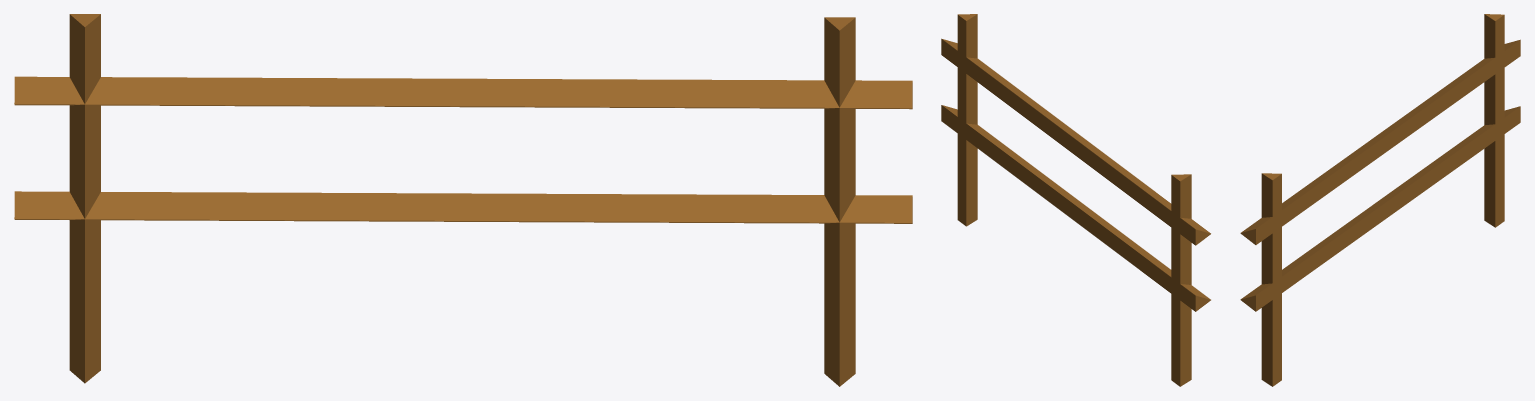
The model's file is WOOD FENCE 1.fbx.
3 renders of one model, left to right at view 1: azimuth 30°, elevation 25°; view 2: azimuth 150°, elevation 25°; view 3: azimuth 270°, elevation 25°, orthographic. The views are drawn at different scales.
Visible parts, largest first — view 1: WOOD_FENCE_1; view 2: WOOD_FENCE_1; view 3: WOOD_FENCE_1.
Boxes of the visible parts, box(x1,y1,x2,y2) form: WOOD_FENCE_1: box(14, 14, 912, 386); WOOD_FENCE_1: box(941, 14, 1210, 386); WOOD_FENCE_1: box(1240, 14, 1520, 386).
Size of the model in its own units: 193 by 96.04 by 118.
Materials: 1 (1 with a texture image).
